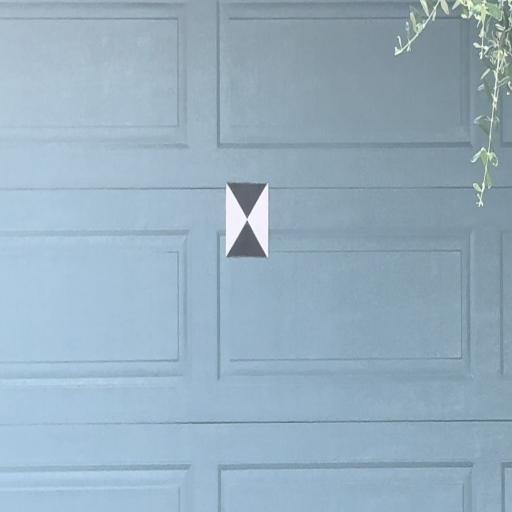target: (226, 182, 269, 258)
